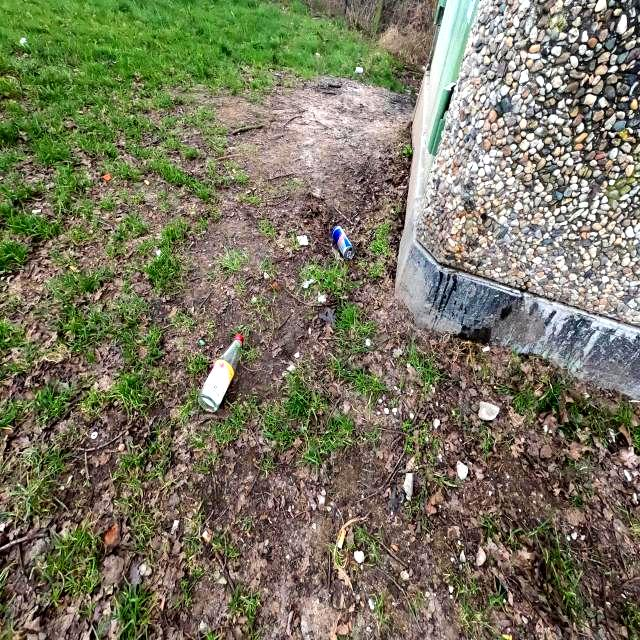Metal: (330, 224, 356, 262), (355, 66, 363, 74)
Paper: (318, 290, 327, 304), (296, 235, 308, 245), (302, 278, 314, 288), (364, 338, 372, 346)
